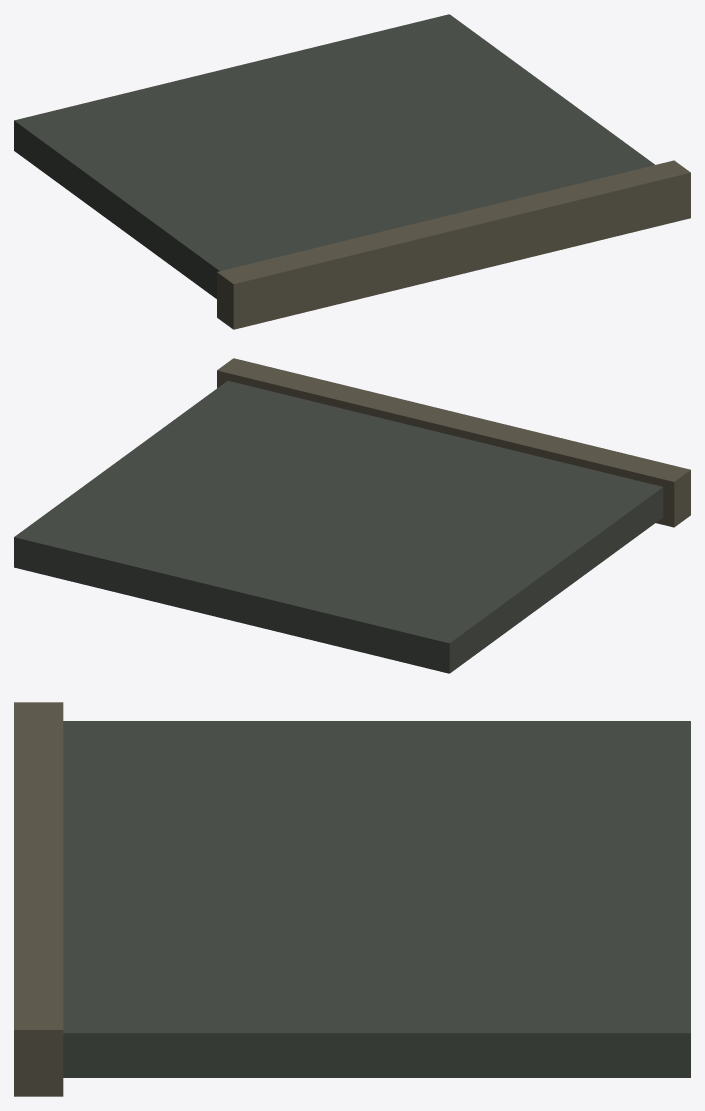
Rendered from VD_TerracePlanter_EndCap.obj.
The picture shows the model from 3 angles, top to bottom: view 1: azimuth 30°, elevation 25°; view 2: azimuth 150°, elevation 25°; view 3: azimuth 270°, elevation 25°; orthographic projection. The views are drawn at different scales.
Visible parts, largest first — view 1: VD_TerracePlanter_EndCap; view 2: VD_TerracePlanter_EndCap; view 3: VD_TerracePlanter_EndCap.
Boxes of the visible parts, x1,y1,x2,y2 form: VD_TerracePlanter_EndCap: (14, 14, 690, 329); VD_TerracePlanter_EndCap: (14, 358, 690, 673); VD_TerracePlanter_EndCap: (14, 702, 690, 1096).
Size of the model in its own units: 126 by 13 by 110.
